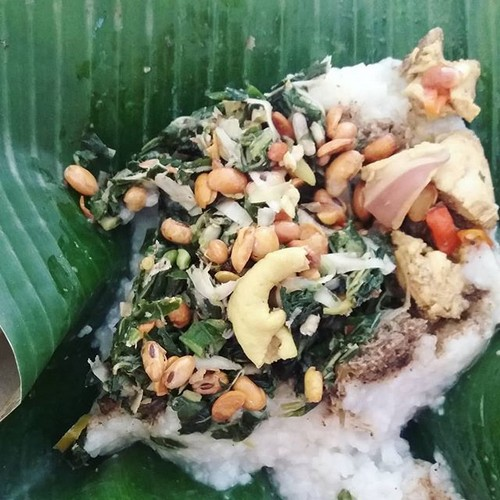nasi tepeng: (54, 30, 462, 493)
